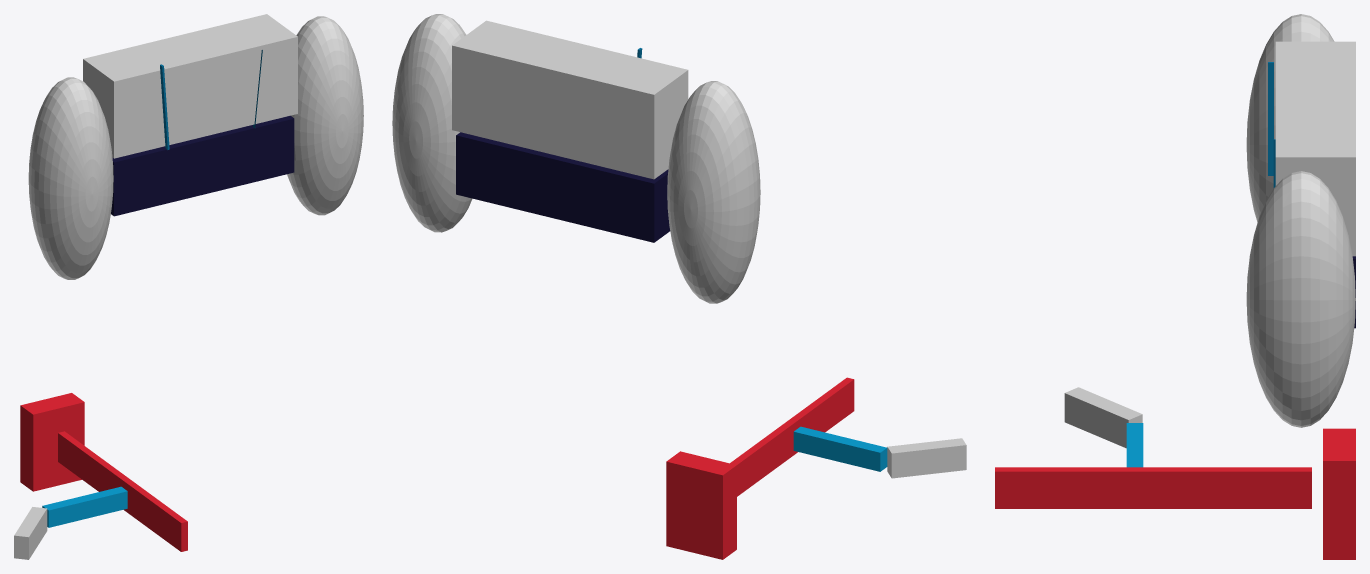
The model's file is tinker.obj.
3 renders of one model, left to right at view 1: azimuth 30°, elevation 25°; view 2: azimuth 150°, elevation 25°; view 3: azimuth 270°, elevation 25°, orthographic. The views are drawn at different scales.
Visible parts, largest first — view 1: group_0_16448250, group_0_1052217, group_0_15277357, group_0_40919, group_0_30377; view 2: group_0_16448250, group_0_1052217, group_0_15277357, group_0_40919; view 3: group_0_16448250, group_0_15277357, group_0_40919, group_0_30377.
Part boxes in pixels (x1,y1,x2,y2): group_0_16448250: (14,14,363,559); group_0_1052217: (111,115,294,216); group_0_15277357: (20,393,187,551); group_0_40919: (42,486,127,527); group_0_30377: (160,50,262,149); group_0_16448250: (392,14,966,478); group_0_1052217: (456,132,670,242); group_0_15277357: (666,377,854,559); group_0_40919: (793,426,887,471); group_0_16448250: (1064,14,1355,448); group_0_15277357: (995,428,1355,559); group_0_40919: (1126,423,1143,467); group_0_30377: (1268,62,1275,187).
Bounding box in the file's own units: 117 × 108 × 66.
